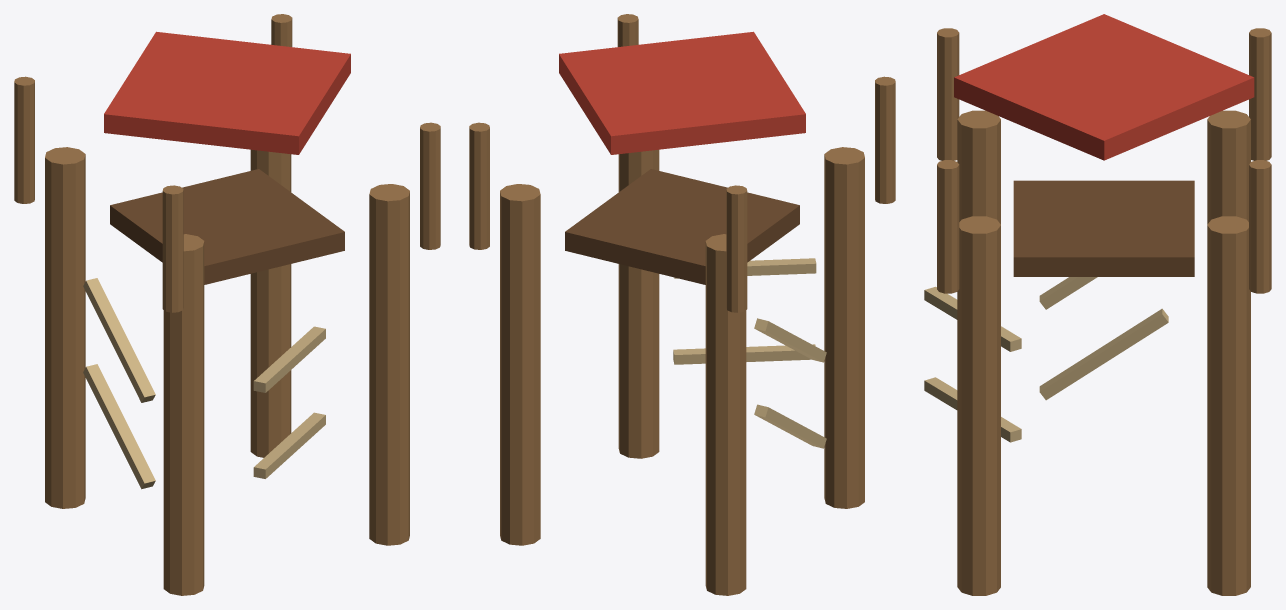
The model's file is field-watchtower.glb.
The picture shows the model from 3 angles, left to right: view 1: azimuth 30°, elevation 25°; view 2: azimuth 150°, elevation 25°; view 3: azimuth 270°, elevation 25°; orthographic projection. The views are drawn at different scales.
Visible parts, largest first — view 1: roof, tower_leg.002, tower_leg.001, tower_deck, tower_leg, tower_leg.003, railing, railing.001, railing.002, brace_y, brace_y.001, brace_x.001 (+2 smaller); view 2: roof, tower_leg.003, tower_leg, tower_deck, tower_leg.001, tower_leg.002, railing.001, railing, railing.003, brace_x, brace_x.001, brace_y (+2 smaller); view 3: roof, tower_deck, tower_leg.003, tower_leg.002, tower_leg.001, tower_leg, railing.002, railing.003, railing.001, railing, brace_y, brace_x (+2 smaller).
Boxes of the visible parts, x1,y1,x2,y2 form: roof: [104, 31, 350, 154]; tower_leg.002: [369, 184, 409, 545]; tower_leg.001: [45, 147, 85, 508]; tower_deck: [110, 169, 344, 284]; tower_leg: [163, 234, 204, 595]; tower_leg.003: [250, 149, 291, 457]; railing: [162, 185, 183, 312]; railing.001: [14, 76, 34, 203]; railing.002: [420, 122, 440, 249]; brace_y: [83, 364, 155, 489]; brace_y.001: [83, 278, 155, 402]; brace_x.001: [253, 326, 325, 392]; roof: [559, 31, 805, 154]; tower_leg.003: [500, 184, 540, 545]; tower_leg: [824, 147, 864, 508]; tower_deck: [565, 169, 799, 284]; tower_leg.001: [705, 234, 746, 595]; tower_leg.002: [618, 149, 659, 458]; railing.001: [726, 185, 747, 312]; railing: [875, 76, 895, 203]; railing.003: [469, 122, 489, 249]; brace_x: [673, 344, 815, 364]; brace_x.001: [674, 258, 816, 278]; brace_y: [754, 404, 826, 448]; roof: [954, 14, 1254, 160]; tower_deck: [1013, 180, 1194, 276]; tower_leg.003: [1207, 216, 1250, 595]; tower_leg.002: [957, 216, 1000, 595]; tower_leg.001: [1207, 110, 1250, 224]; tower_leg: [957, 110, 1000, 224]; railing.002: [937, 160, 959, 293]; railing.003: [1249, 160, 1271, 293]; railing.001: [1249, 28, 1271, 160]; railing: [937, 28, 959, 160]; brace_y: [1039, 308, 1168, 400]; brace_x: [924, 377, 1021, 442].
Size of the model in its own units: 0.5342 by 0.8075 by 0.5558.
